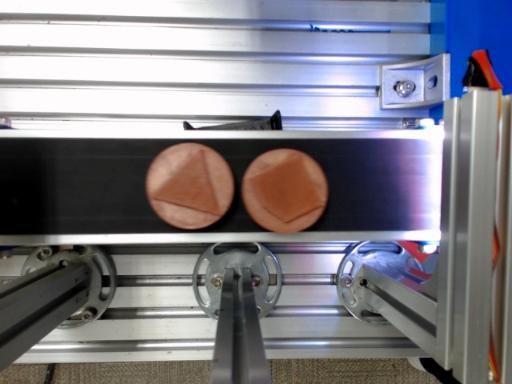Brown_Waper: (146, 142, 234, 228), (242, 149, 328, 232)
